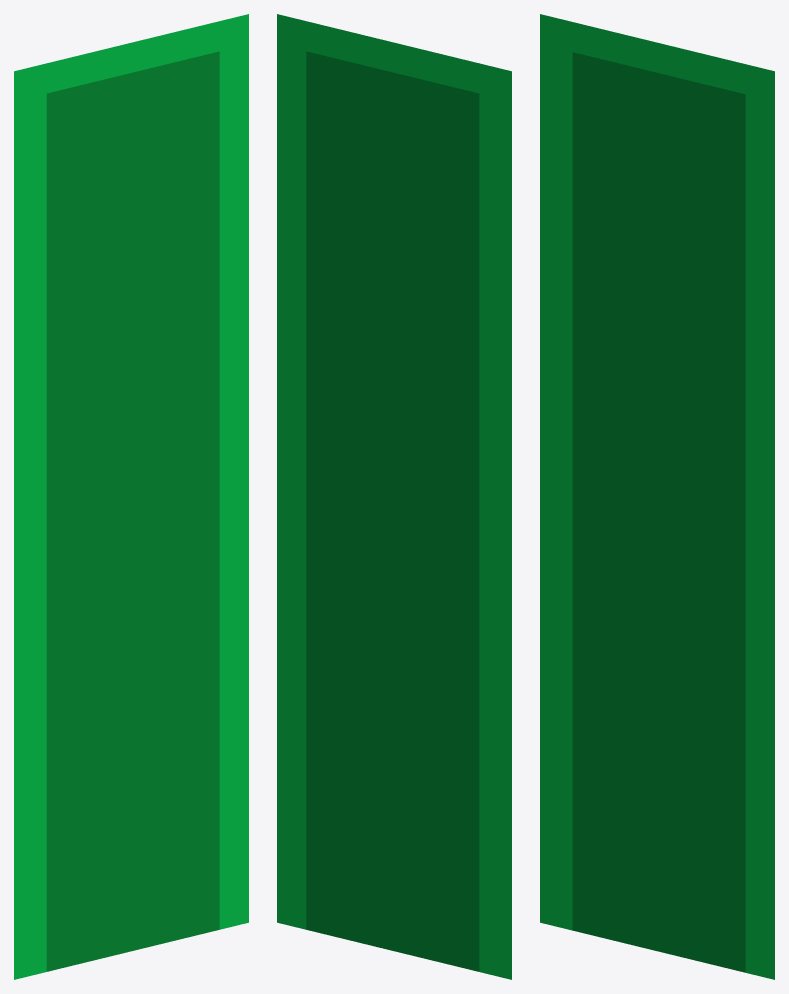
File: bar3.glb
3 views of the same model, side by side, from view 1: azimuth 30°, elevation 25°; view 2: azimuth 150°, elevation 25°; view 3: azimuth 330°, elevation 25° (orthographic).
Parts seen in each view (by area): view 1: bar3; view 2: bar3; view 3: bar3.
Part boxes in pixels (x1,y1,x2,y2): bar3: [14, 14, 248, 979]; bar3: [277, 14, 511, 979]; bar3: [540, 14, 774, 979].
Size of the model in its own units: 0.1611 by 0.5953 by 0.
